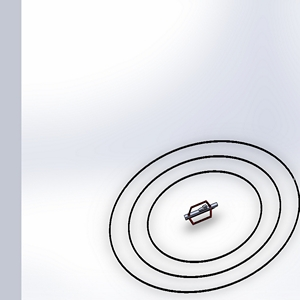circle: (102, 138, 299, 294)
submarine: (177, 194, 227, 233)
